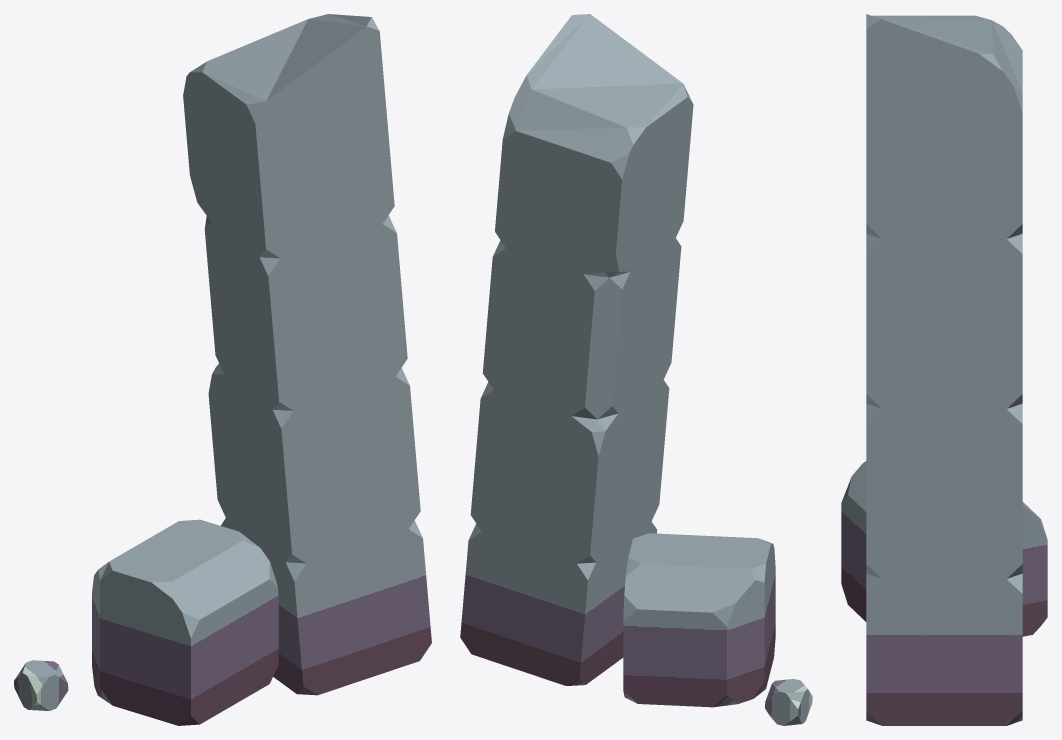
The model's file is Fallen Pillar 1.001.fbx.
3 views of the same model, side by side, from view 1: azimuth 30°, elevation 25°; view 2: azimuth 150°, elevation 25°; view 3: azimuth 270°, elevation 25° (orthographic). The views are drawn at different scales.
Visible parts, largest first — view 1: Fallen Pillar 1.001; view 2: Fallen Pillar 1.001; view 3: Fallen Pillar 1.001.
Boxes of the visible parts, bbox=[...] form: Fallen Pillar 1.001: bbox=[14, 14, 431, 725]; Fallen Pillar 1.001: bbox=[460, 14, 812, 725]; Fallen Pillar 1.001: bbox=[841, 14, 1047, 725].
Size of the model in its own units: 237 by 422 by 114.
